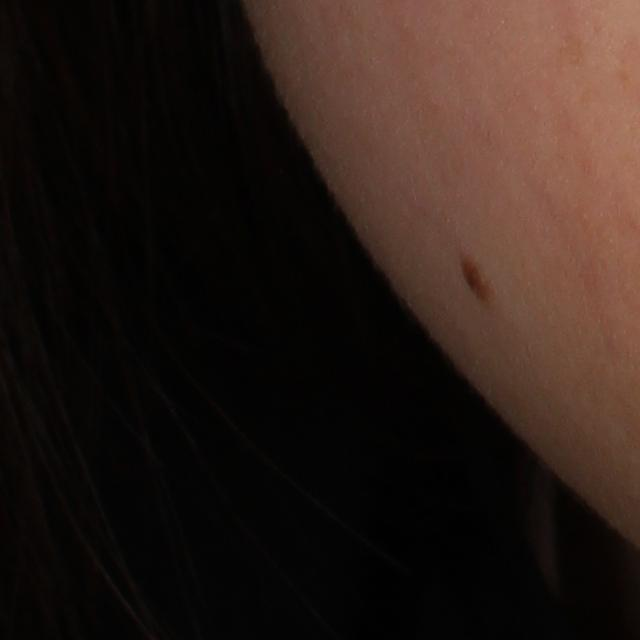nevus: (453, 243, 502, 314)
